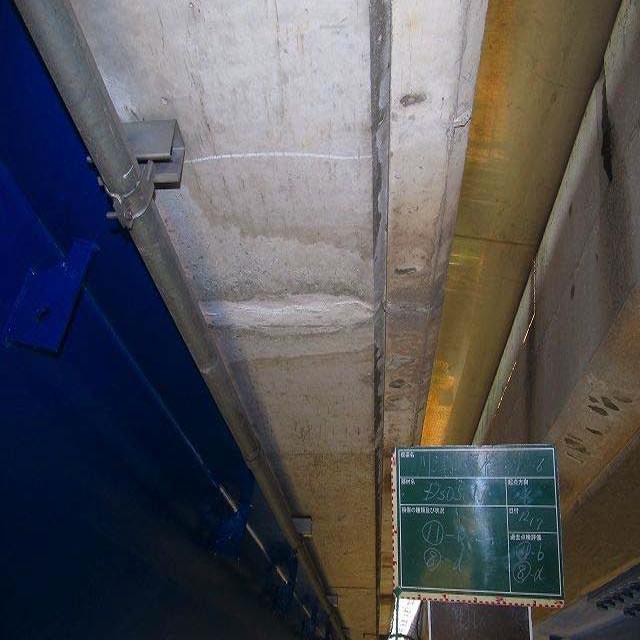freelime: (199, 274, 374, 340)
